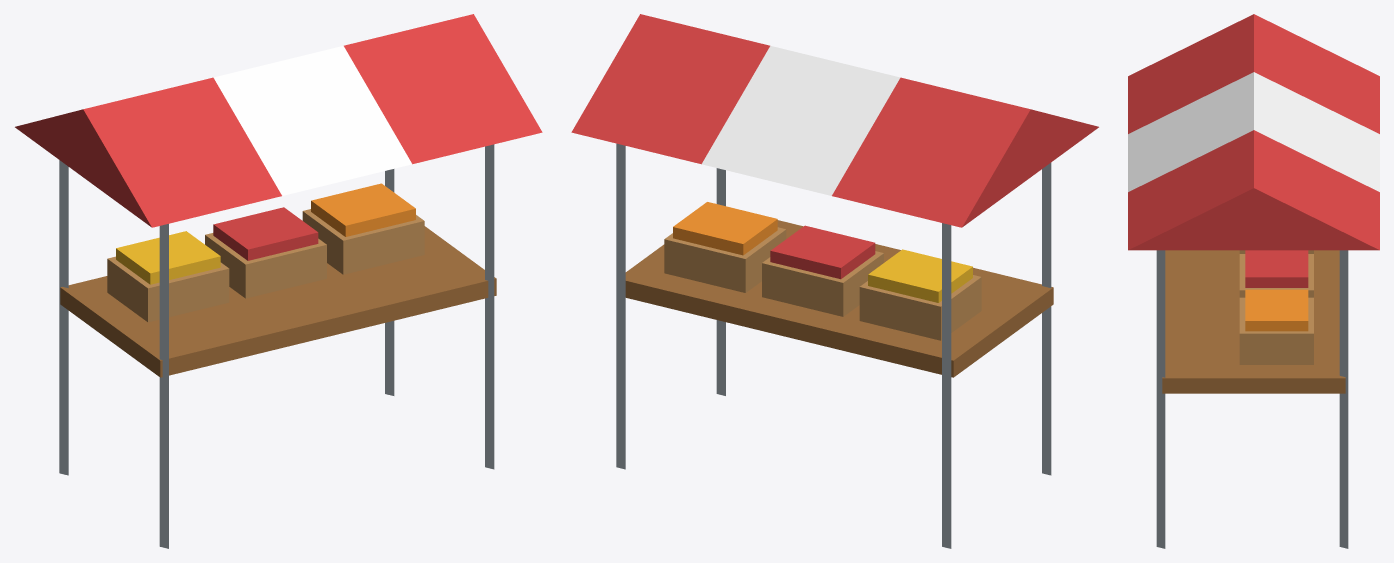
Rendered from barraca_feira.glb.
3 renders of one model, left to right at view 1: azimuth 30°, elevation 25°; view 2: azimuth 150°, elevation 25°; view 3: azimuth 270°, elevation 25°, orthographic. The views are drawn at different scales.
Visible parts, largest first — view 1: corpo; view 2: corpo; view 3: corpo.
Boxes of the visible parts, x1,y1,x2,y2 form: corpo: (15,14,542,548); corpo: (571,14,1098,548); corpo: (1128,14,1379,548).
Size of the model in its own units: 0.72 by 0.72 by 0.44.
